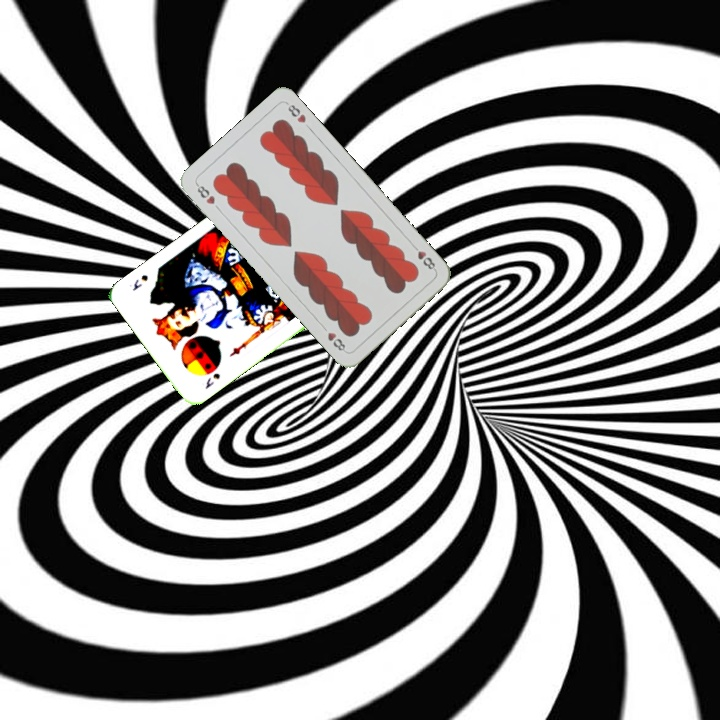H8: (408, 240, 439, 274), (192, 180, 217, 207)
SK: (201, 369, 223, 392)
